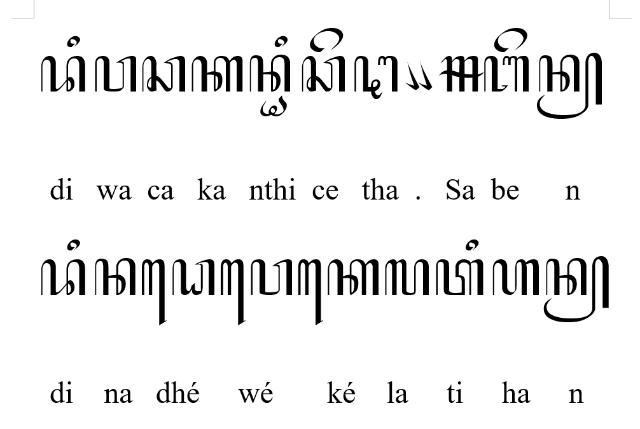-n: (536, 52, 604, 120), (544, 256, 610, 324)
S: (438, 55, 484, 92)
_th: (259, 95, 287, 117)
b: (483, 56, 529, 92)
c: (300, 55, 346, 93), (142, 54, 186, 93)
d: (40, 258, 86, 296), (40, 56, 86, 92)
dh: (171, 259, 215, 298)
e: (308, 27, 344, 53), (494, 28, 528, 52)
e1: (220, 258, 246, 326), (298, 259, 324, 327), (141, 260, 167, 326)
h: (492, 258, 540, 296)
i: (66, 35, 80, 49), (66, 238, 80, 252), (465, 238, 479, 252), (274, 36, 288, 46)
k: (327, 260, 379, 297), (192, 56, 244, 92)
kom: (404, 59, 420, 91), (418, 60, 432, 90)
l: (384, 259, 430, 297)
n: (250, 54, 292, 94), (94, 258, 136, 296)
t: (435, 259, 485, 297)
th: (353, 55, 399, 99)
w: (250, 258, 292, 296), (94, 56, 138, 92)
